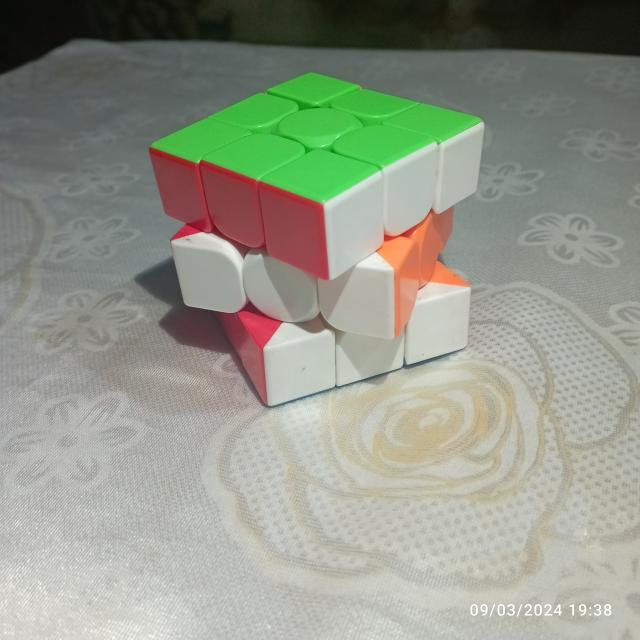Rub: (143, 63, 492, 409)
